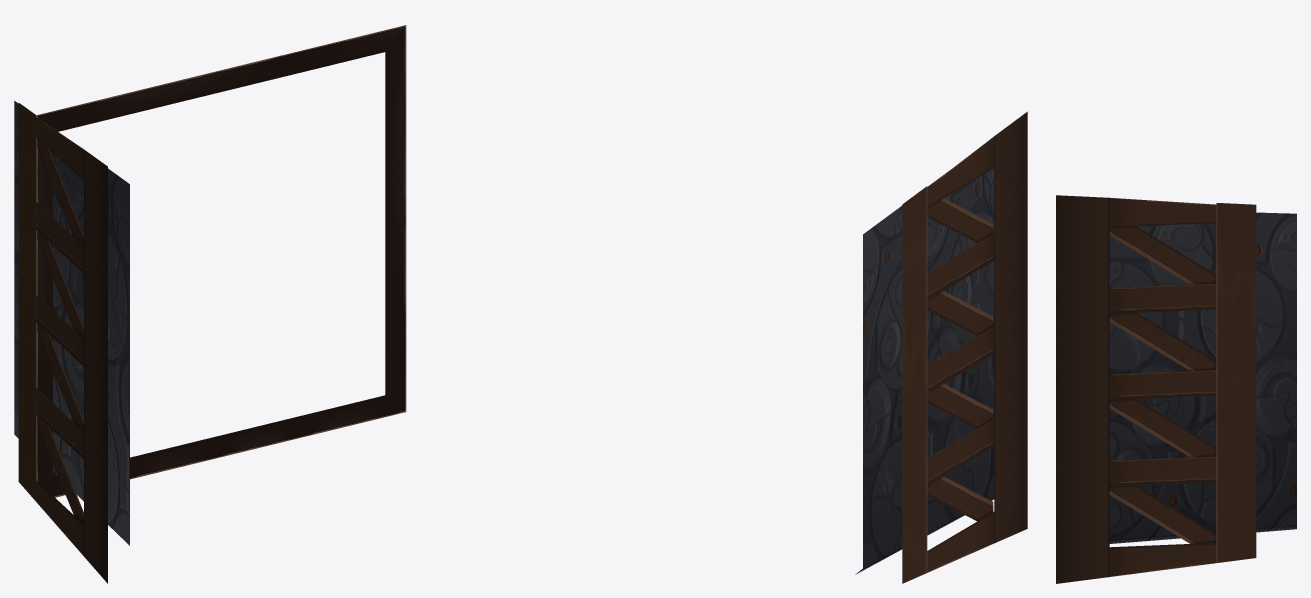
File: understructure_x9.glb
3 views of the same model, side by side, from view 1: azimuth 30°, elevation 25°; view 2: azimuth 150°, elevation 25°; view 3: azimuth 270°, elevation 25° (orthographic). The views are drawn at different scales.
Visible parts, largest first — view 1: clockworks.understructure_x9-MeshNodes["understructure_9w"], clockworks.understructure_x9-MeshNodes["understructure_9w_in; view 2: clockworks.understructure_x9-MeshNodes["understructure_9w"], clockworks.understructure_x9-MeshNodes["understructure_9w_in; view 3: clockworks.understructure_x9-MeshNodes["understructure_9w"], clockworks.understructure_x9-MeshNodes["understructure_9w_in.
Part boxes in pixels (x1,y1,x2,y2): clockworks.understructure_x9-MeshNodes["understructure_9w"]: [18, 25, 406, 583]; clockworks.understructure_x9-MeshNodes["understructure_9w_in: [14, 101, 129, 545]; clockworks.understructure_x9-MeshNodes["understructure_9w"]: [902, 111, 1027, 583]; clockworks.understructure_x9-MeshNodes["understructure_9w_in: [855, 168, 994, 574]; clockworks.understructure_x9-MeshNodes["understructure_9w"]: [1056, 195, 1256, 583]; clockworks.understructure_x9-MeshNodes["understructure_9w_in: [1109, 212, 1296, 543].
Bounding box in the file's own units: 9 × 9 × 5.05.
2 materials, 2 textured.
